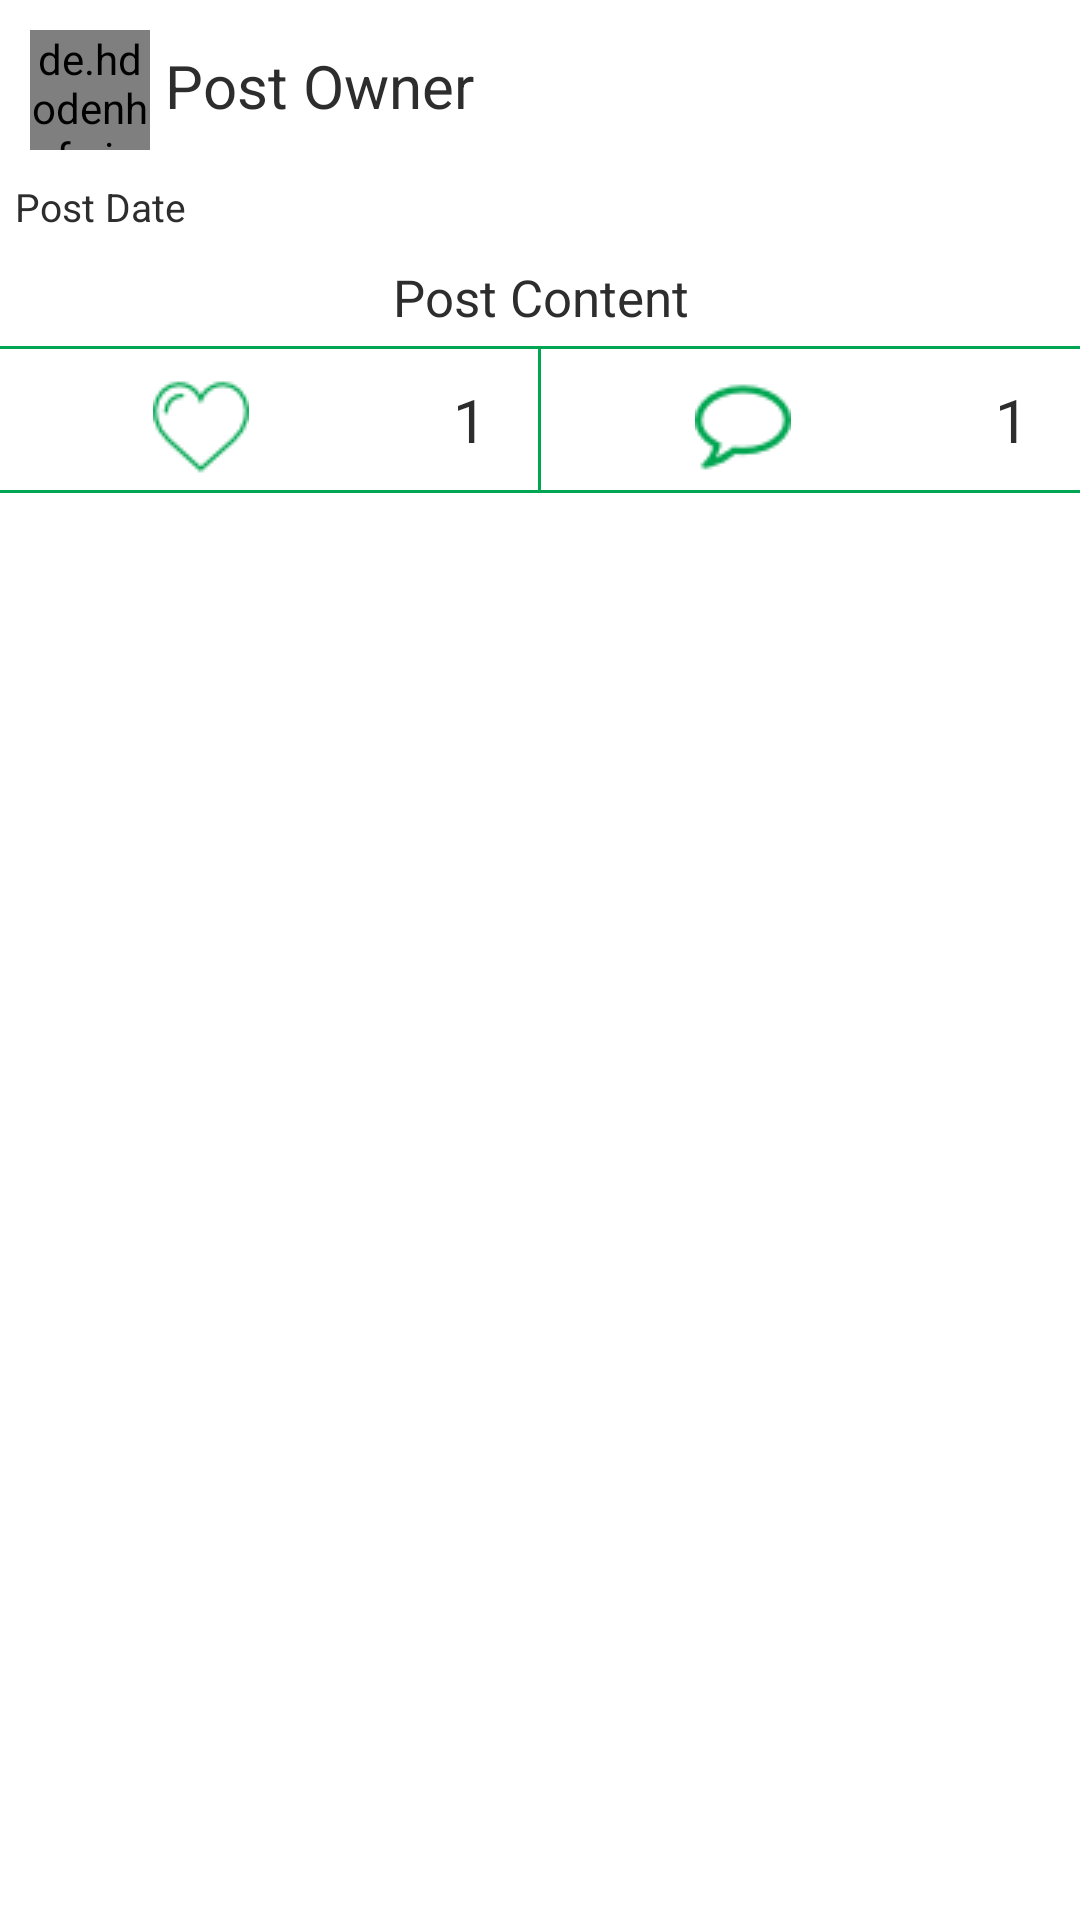

Where to tap for icons on this 1080*1920 app screen, as (x=x, y=y):
comment: (x=743, y=427)
